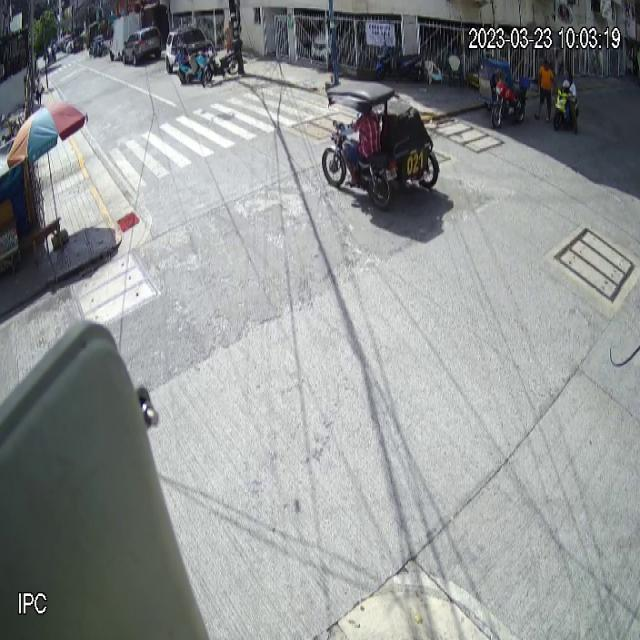Tricycle: (321, 78, 440, 212)
